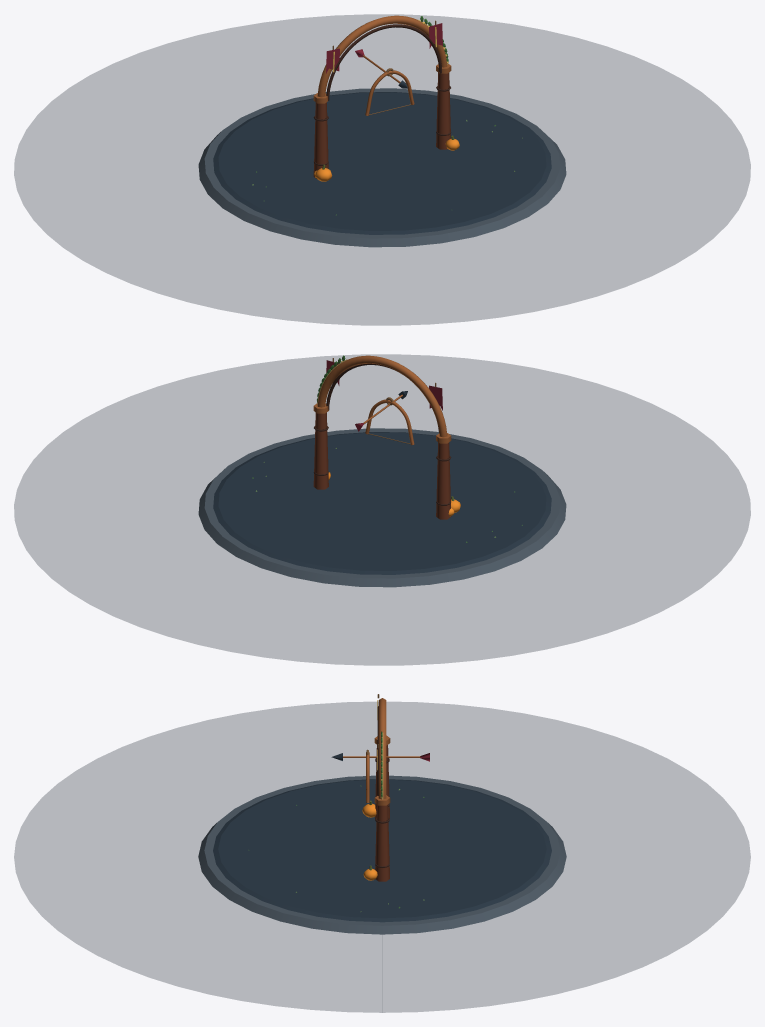
The model's file is asset.glb.
3 views of the same model, one above another, from view 1: azimuth 30°, elevation 25°; view 2: azimuth 150°, elevation 25°; view 3: azimuth 270°, elevation 25° (orthographic).
Visible parts, largest first — view 1: object 60, BaseInset, StoneDisplayBase, MainArch, RightArchPost, LeftArchPost, InnerArchTrim; view 2: object 60, BaseInset, StoneDisplayBase, MainArch, RightArchPost, LeftArchPost; view 3: object 60, BaseInset, StoneDisplayBase, RightArchPost, MainArch.
Boxes of the visible parts, left/top/right/bottom form: object 60: left=14, top=14, right=750, bottom=325; BaseInset: left=213, top=92, right=551, bottom=234; StoneDisplayBase: left=198, top=88, right=566, bottom=247; MainArch: left=317, top=15, right=447, bottom=97; RightArchPost: left=436, top=72, right=450, bottom=149; LeftArchPost: left=313, top=102, right=328, bottom=179; InnerArchTrim: left=326, top=24, right=441, bottom=100; object 60: left=14, top=354, right=750, bottom=665; BaseInset: left=213, top=432, right=551, bottom=574; StoneDisplayBase: left=198, top=428, right=566, bottom=587; MainArch: left=317, top=355, right=447, bottom=437; RightArchPost: left=313, top=412, right=328, bottom=489; LeftArchPost: left=436, top=442, right=451, bottom=519; object 60: left=14, top=702, right=750, bottom=1012; BaseInset: left=213, top=779, right=551, bottom=922; StoneDisplayBase: left=198, top=775, right=566, bottom=934; RightArchPost: left=375, top=804, right=389, bottom=881; MainArch: left=378, top=698, right=386, bottom=799.
Bounding box in the file's own units: 24 × 5.48 × 24.
